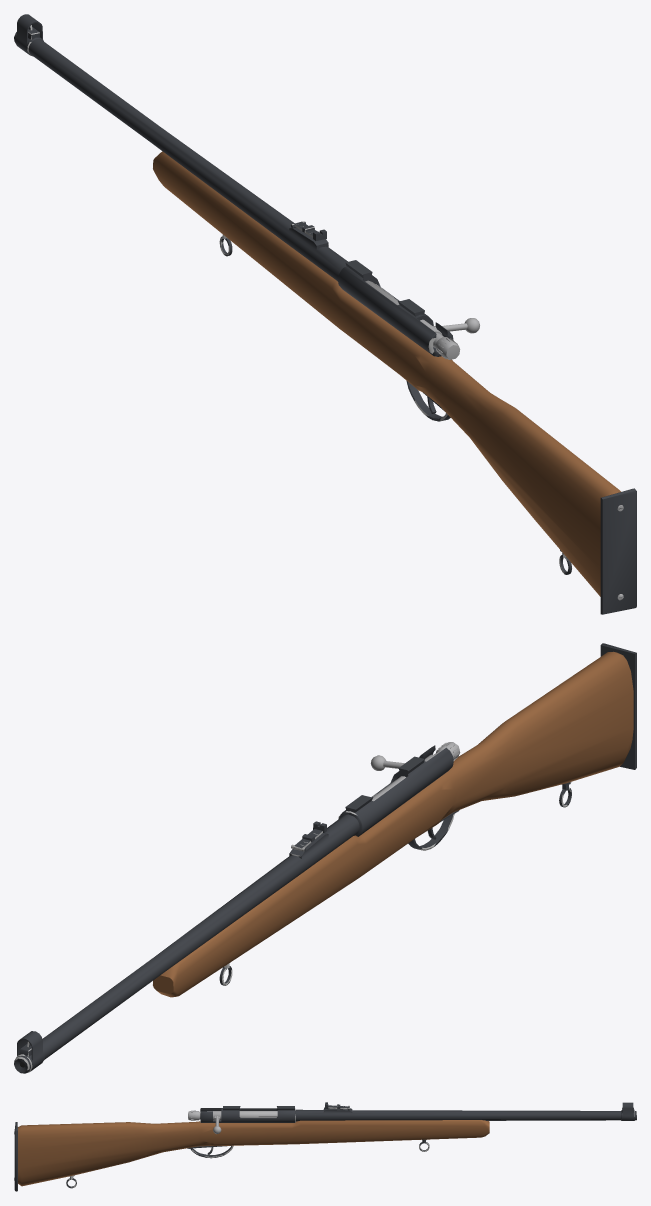
Rendered from toz8_lod1.glb.
3 renders of one model, top to bottom at view 1: azimuth 30°, elevation 25°; view 2: azimuth 150°, elevation 25°; view 3: azimuth 270°, elevation 25°, orthographic. The views are drawn at different scales.
Visible parts, largest first — view 1: Wood, Blued, Steel; view 2: Wood, Blued, Steel; view 3: Wood, Blued, Steel, Worn.
Boxes of the visible parts, left/top/right/bottom form: Wood: left=153, top=151, right=620, bottom=596; Blued: left=14, top=14, right=636, bottom=614; Steel: left=365, top=280, right=623, bottom=600; Wood: left=153, top=651, right=633, bottom=997; Blued: left=14, top=643, right=636, bottom=1073; Steel: left=370, top=742, right=460, bottom=801; Wood: left=18, top=1120, right=489, bottom=1186; Blued: left=14, top=1102, right=636, bottom=1191; Steel: left=14, top=1110, right=277, bottom=1180; Worn: left=68, top=1105, right=636, bottom=1188.
Size of the model in its own units: 0.0758 by 0.1677 by 1.11.
